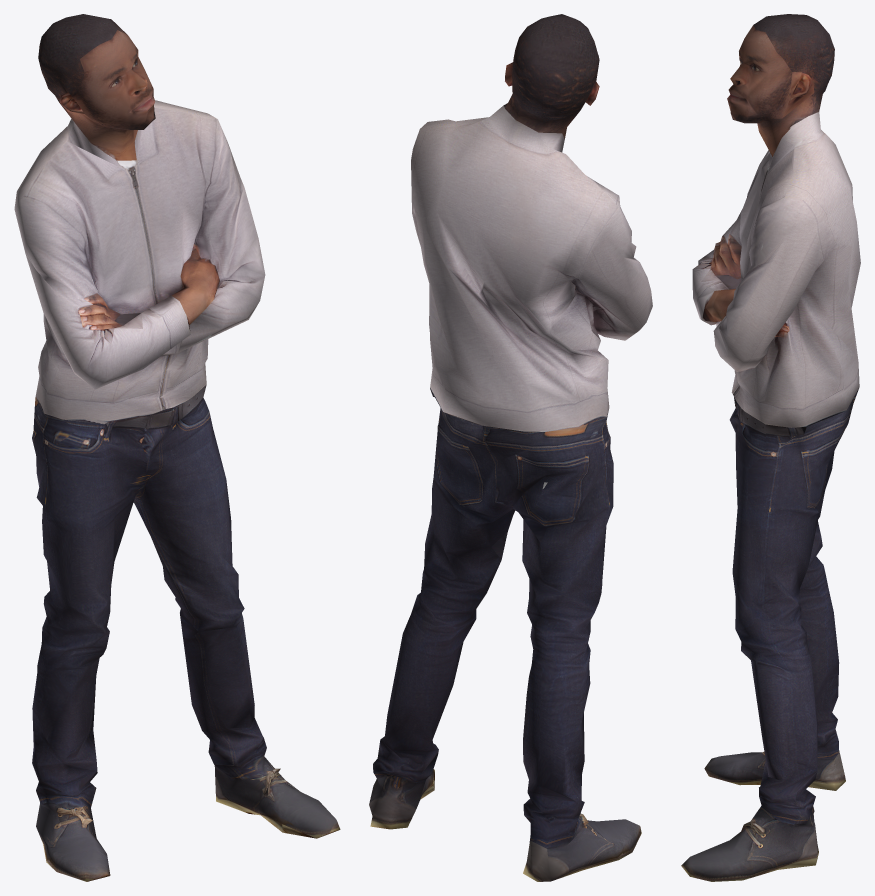
The model's file is persona3.obj.
The picture shows the model from 3 angles, left to right: view 1: azimuth 30°, elevation 25°; view 2: azimuth 150°, elevation 25°; view 3: azimuth 270°, elevation 25°; orthographic projection. The views are drawn at different scales.
Parts seen in each view (by area): view 1: Cas_Sum_Man_RtStand_366_Mesh.007; view 2: Cas_Sum_Man_RtStand_366_Mesh.007; view 3: Cas_Sum_Man_RtStand_366_Mesh.007.
Part boxes in pixels (left/top/right/bottom): Cas_Sum_Man_RtStand_366_Mesh.007: left=14, top=14, right=340, bottom=881; Cas_Sum_Man_RtStand_366_Mesh.007: left=369, top=14, right=652, bottom=881; Cas_Sum_Man_RtStand_366_Mesh.007: left=681, top=14, right=860, bottom=881.
Size of the model in its own units: 0.5879 by 1.7 by 0.3596.
Materials: 1 (1 with a texture image).
